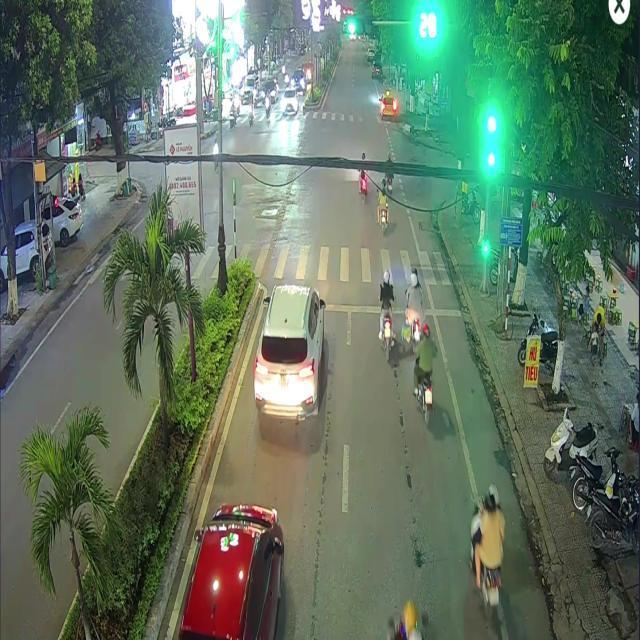car: (253, 283, 326, 419)
green_light: (484, 110, 498, 172), (345, 13, 372, 38)
motobike: (470, 483, 504, 606), (412, 322, 435, 388), (377, 269, 393, 351)
stop_line: (262, 299, 460, 316)
